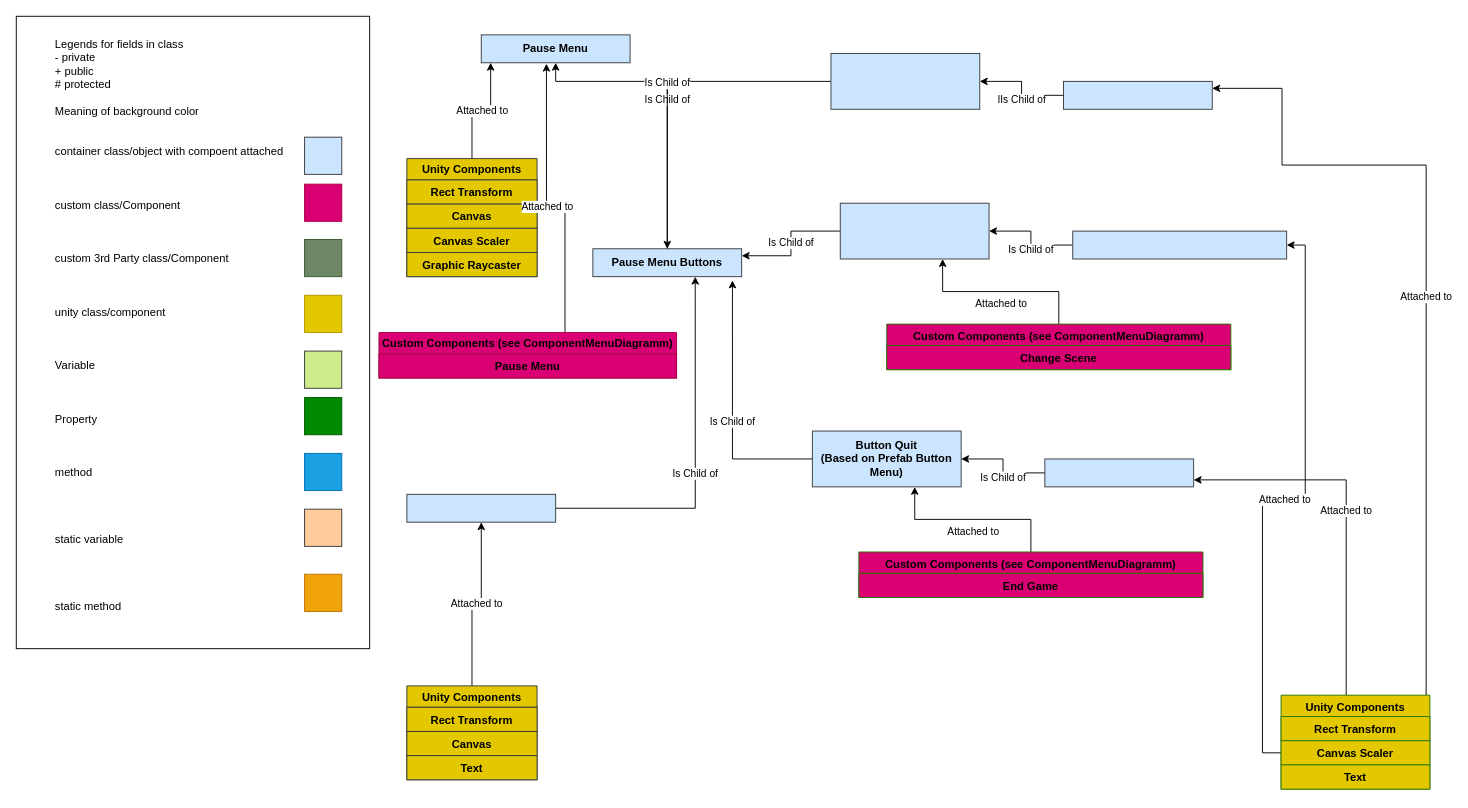
Image size: 1468x808. Some labels were removed from this diagram. The shapes that lost their labels are listed below. From the top down, each one's centre as x and y in pixels, then its label:
At point (905, 81): "Button Resume Game (Based on Prefab Button Menu)".
At point (1137, 94): "Text Button Resume Game".
At point (914, 230): "Button Back To Main Menu (Based on Prefab Button Menu)".
At point (1179, 244): "Text Button Back To Main Menu".
At point (1119, 472): "Text Button Quit".
At point (481, 507): "Pause Title".
